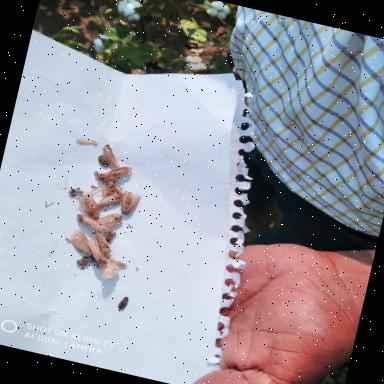abw: (90, 210, 128, 242), (98, 160, 133, 191), (73, 212, 116, 237), (96, 142, 127, 172), (97, 250, 124, 284), (69, 228, 99, 258), (116, 189, 142, 220), (84, 236, 110, 266), (74, 195, 104, 220), (95, 188, 121, 212)
